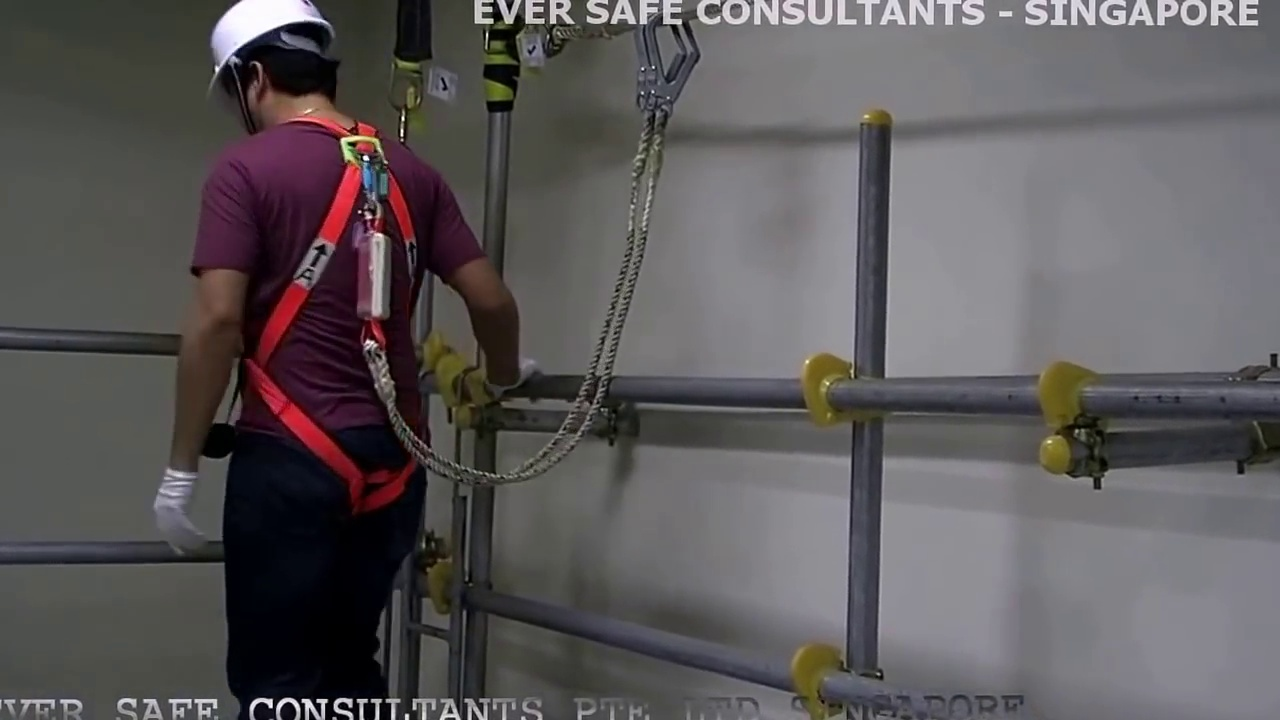harness: (258, 133, 411, 506)
helmet: (201, 1, 336, 59)
hook: (636, 15, 700, 112)
leash: (522, 123, 694, 479)
